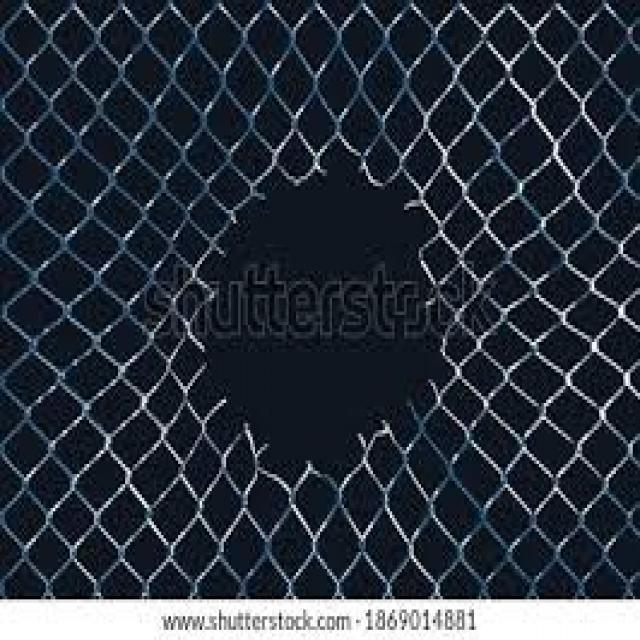fence line: (195, 154, 459, 476)
